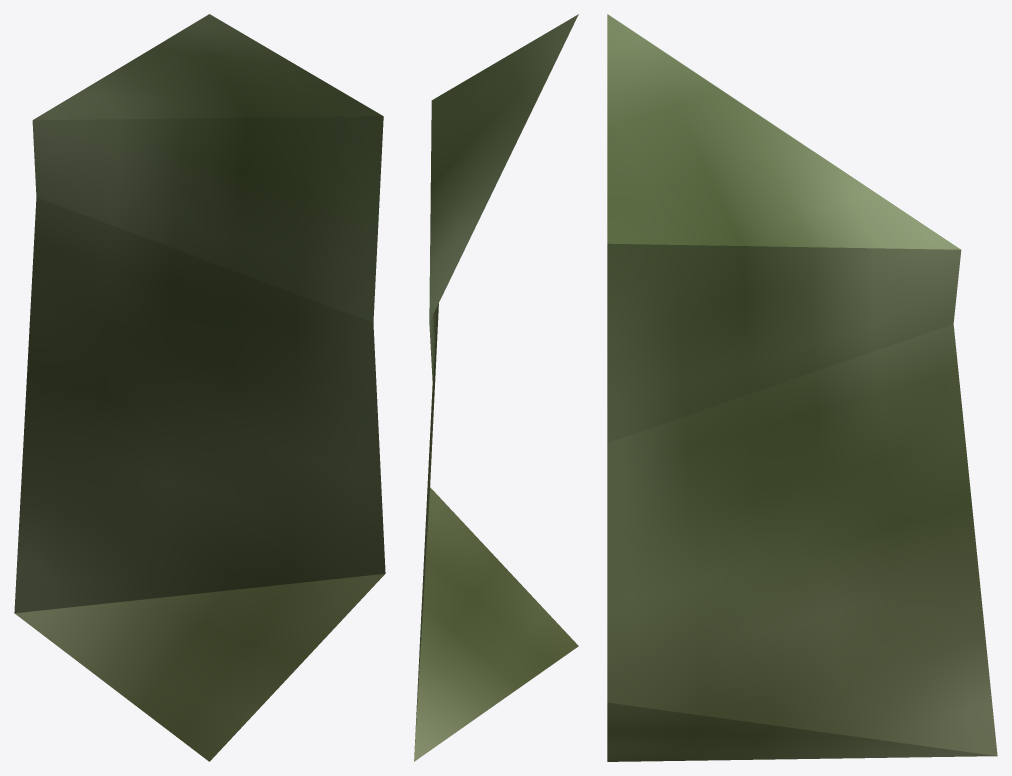
The picture shows the model from 3 angles, left to right: view 1: azimuth 30°, elevation 25°; view 2: azimuth 150°, elevation 25°; view 3: azimuth 270°, elevation 25°; orthographic projection. The views are drawn at different scales.
Size of the model in its own units: 0.2759 by 1.12 by 0.5296.
Materials: 1 (1 with a texture image).
